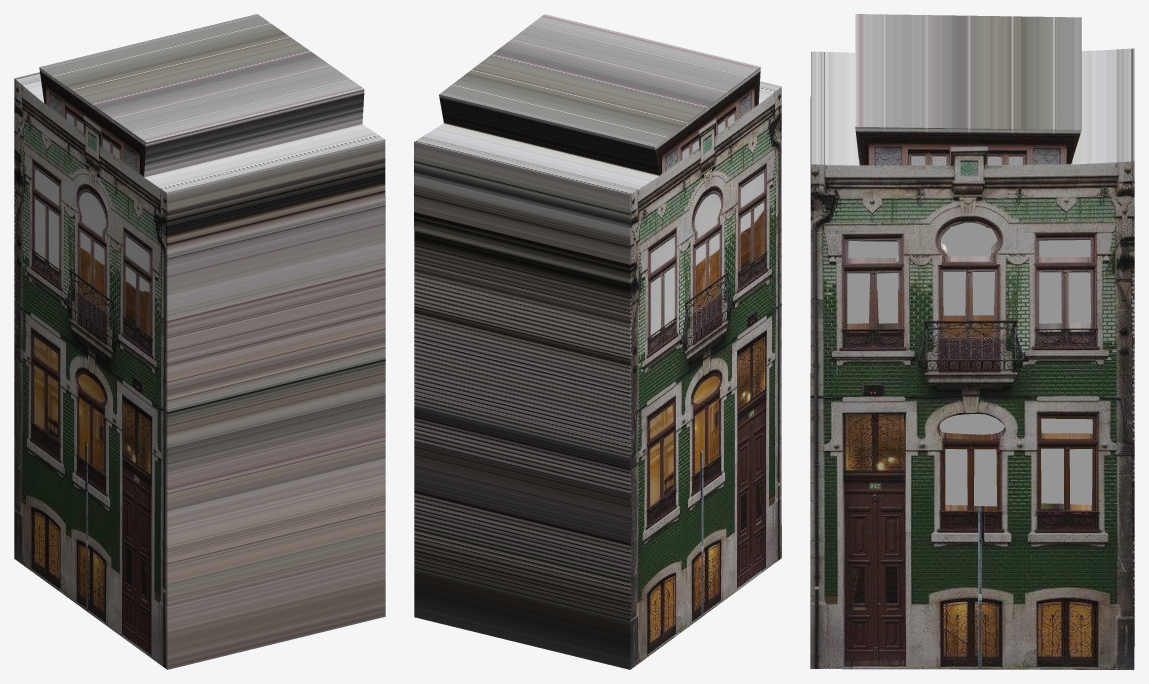
The picture shows the model from 3 angles, left to right: view 1: azimuth 30°, elevation 25°; view 2: azimuth 150°, elevation 25°; view 3: azimuth 270°, elevation 25°; orthographic projection. The views are drawn at different scales.
Visible parts, largest first — view 1: ev_4; view 2: ev_4; view 3: ev_4.
Part boxes in pixels (<box>): ev_4: <box>14,14,385,669</box>; ev_4: <box>414,14,781,669</box>; ev_4: <box>810,14,1134,669</box>.
Size of the model in its own units: 148 by 331 by 179.
Materials: 2 (1 with a texture image).
